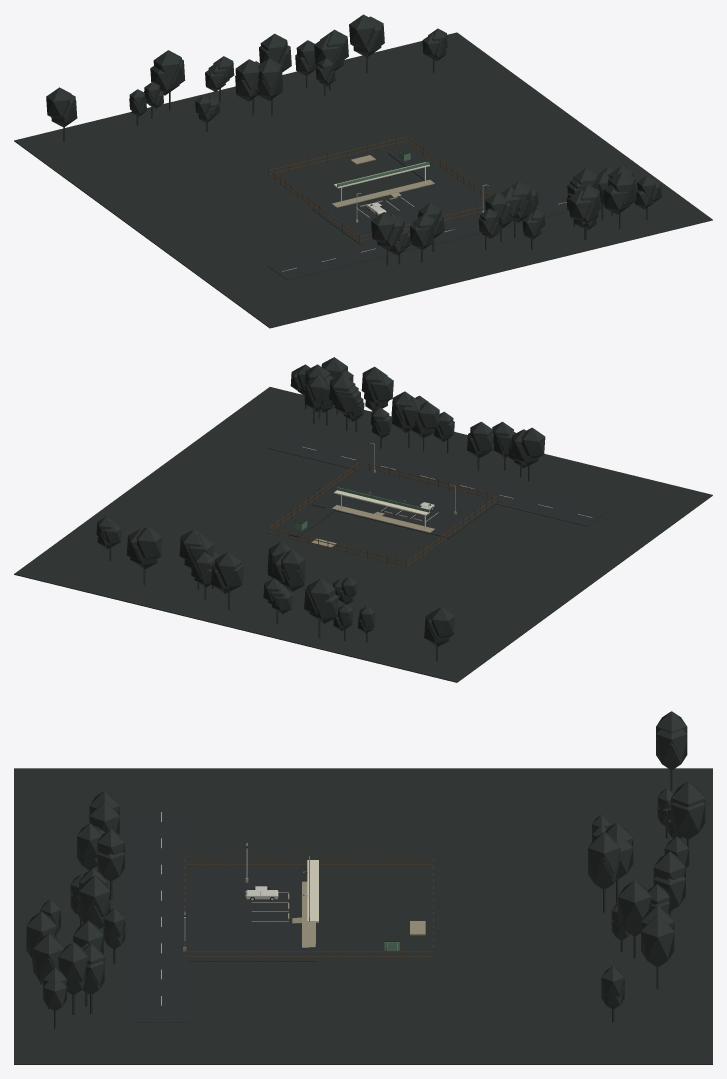
The model's file is exterior.glb.
3 renders of one model, top to bottom at view 1: azimuth 30°, elevation 25°; view 2: azimuth 150°, elevation 25°; view 3: azimuth 270°, elevation 25°, orthographic. The views are drawn at different scales.
Visible parts, largest first — view 1: exterior; view 2: exterior; view 3: exterior.
Part boxes in pixels (x1,y1,x2,y2): exterior: (14,14,712,328); exterior: (14,357,712,682); exterior: (14,711,712,1064).
Size of the model in its own units: 90 by 12.12 by 90.
Materials: 13 (3 with a texture image).
